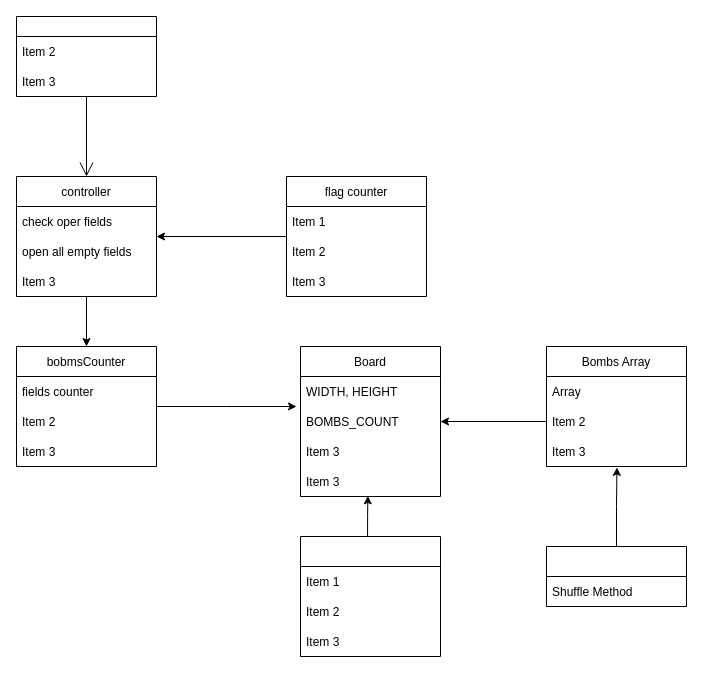
The diagram is 703 pixels wide and 673 high, and some of its shapes have lost their labels. The shapes that lost their labels are listed below. From the top down, each one's box as (x1, y1, x2, y2) in pixels, then its label:
(16, 16, 156, 96): check first click
(300, 536, 440, 656): createBoard
(546, 546, 686, 606): Shuffle random array
